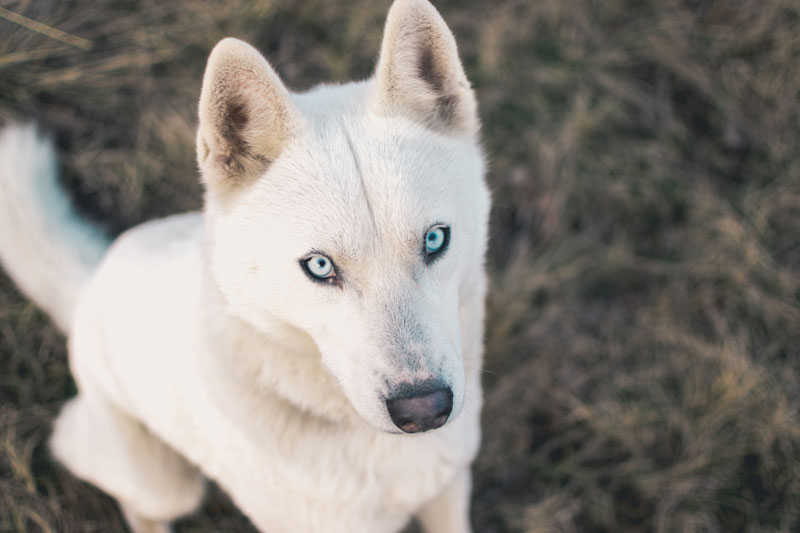husky: (178, 9, 497, 477)
